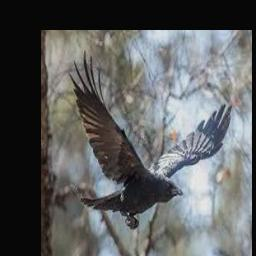Crow: (69, 50, 233, 230)
